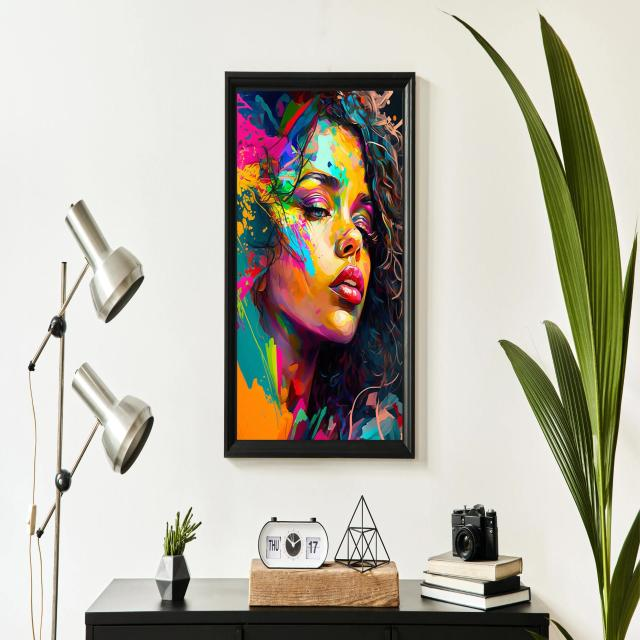painting: (223, 69, 415, 457)
